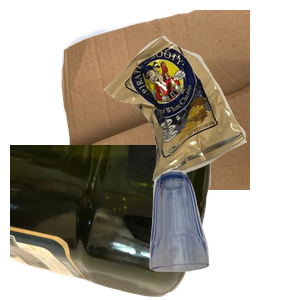cardboard: (43, 10, 283, 190)
glass: (147, 168, 300, 300)
plastic: (10, 145, 213, 300)
trash: (101, 33, 300, 206)
